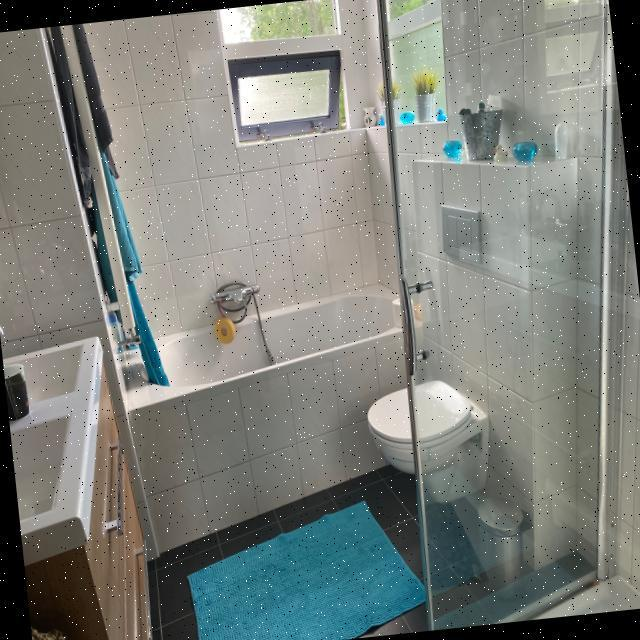bath: (116, 260, 442, 558)
douche: (356, 0, 640, 631)
toilet: (361, 368, 498, 522)
wastafel: (1, 342, 159, 640), (1, 333, 125, 568)
